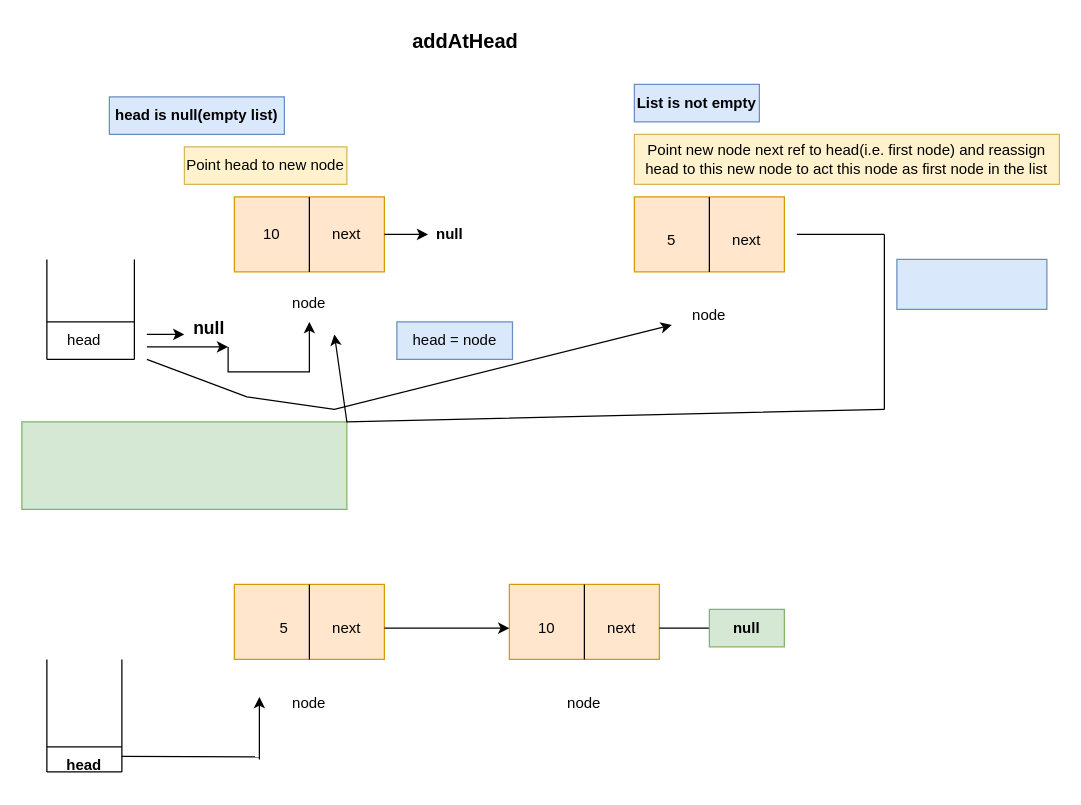
Image size: 1081x805. Some labels were removed from this diagram. The shapes that lost their labels are listed below. From the top down, each one's box as (x1, y1, x2, y2) in pixels, then its label:
(896, 258, 1047, 309): node.next = head
(21, 421, 347, 509): If head is null then reassign head to new node. i.e. head = node and return
